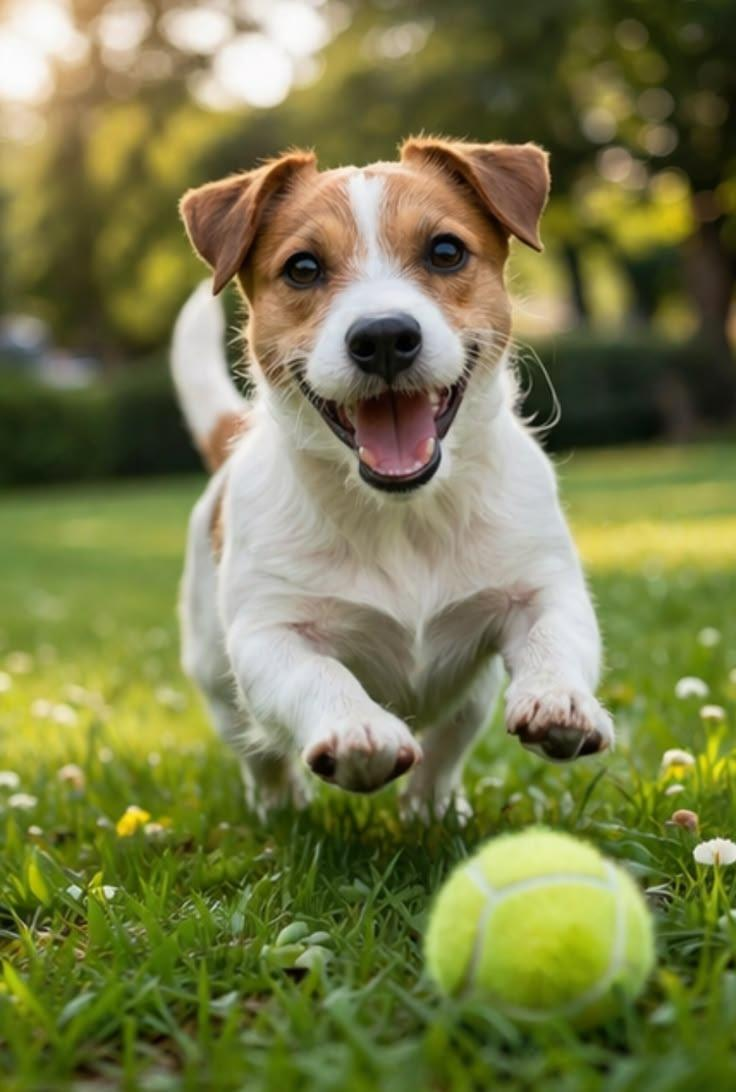dog: (173, 139, 612, 808)
